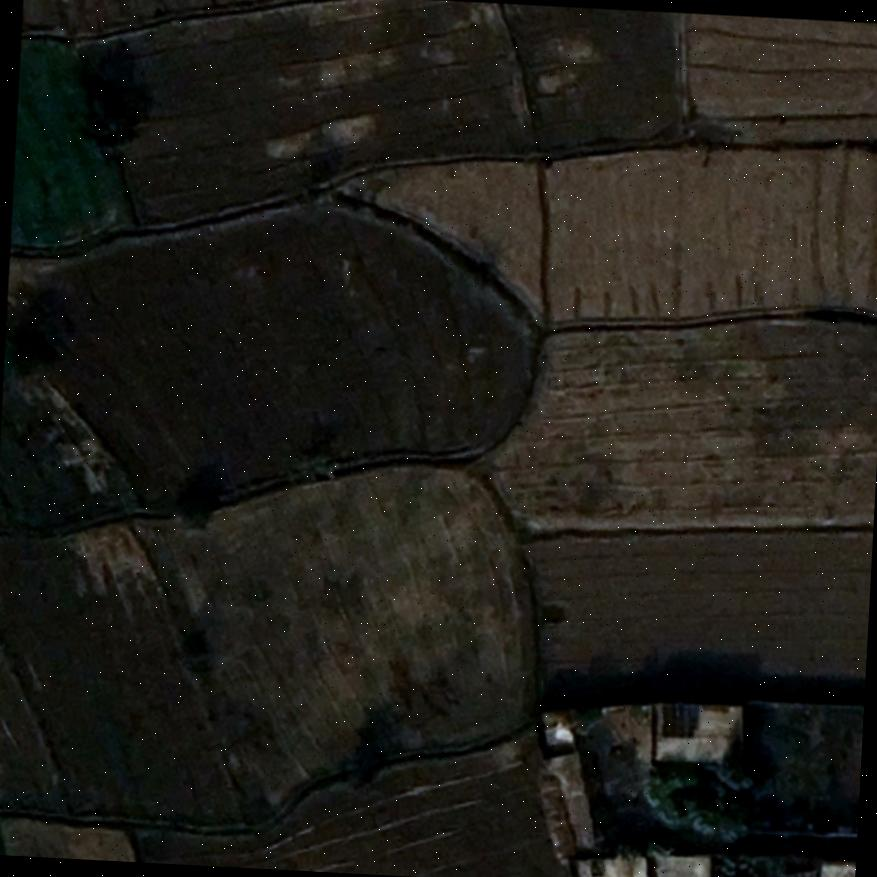Solarpanel: (658, 700, 702, 740), (774, 862, 817, 877)
